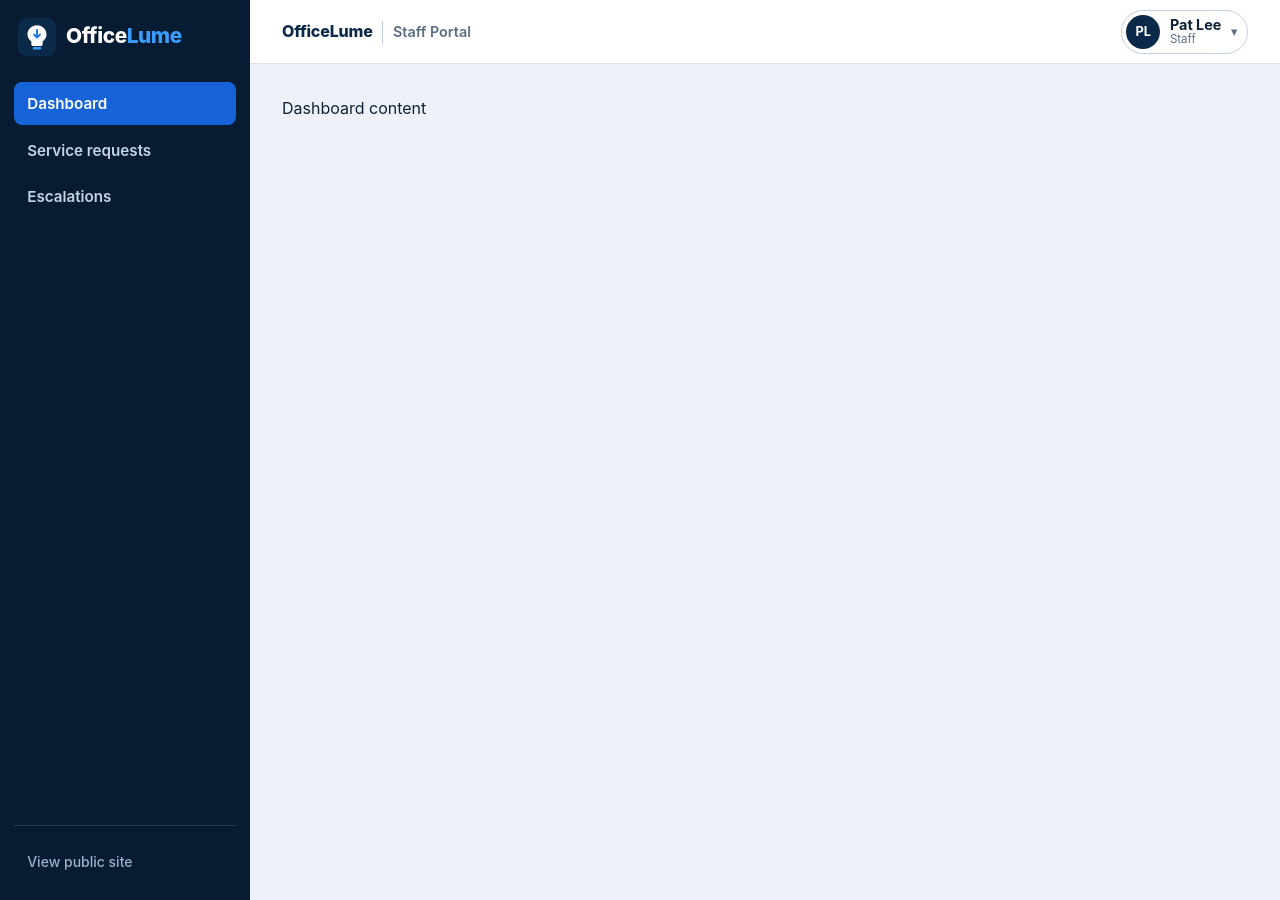
Test: staff portal header and account menu › shows the role label for staff
This screenshot has width=1280, height=900.
Step 1. Click the button "PL Pat Lee Staff ▾" → (1184, 32), box x1=1120 y1=10 x2=1248 y2=54
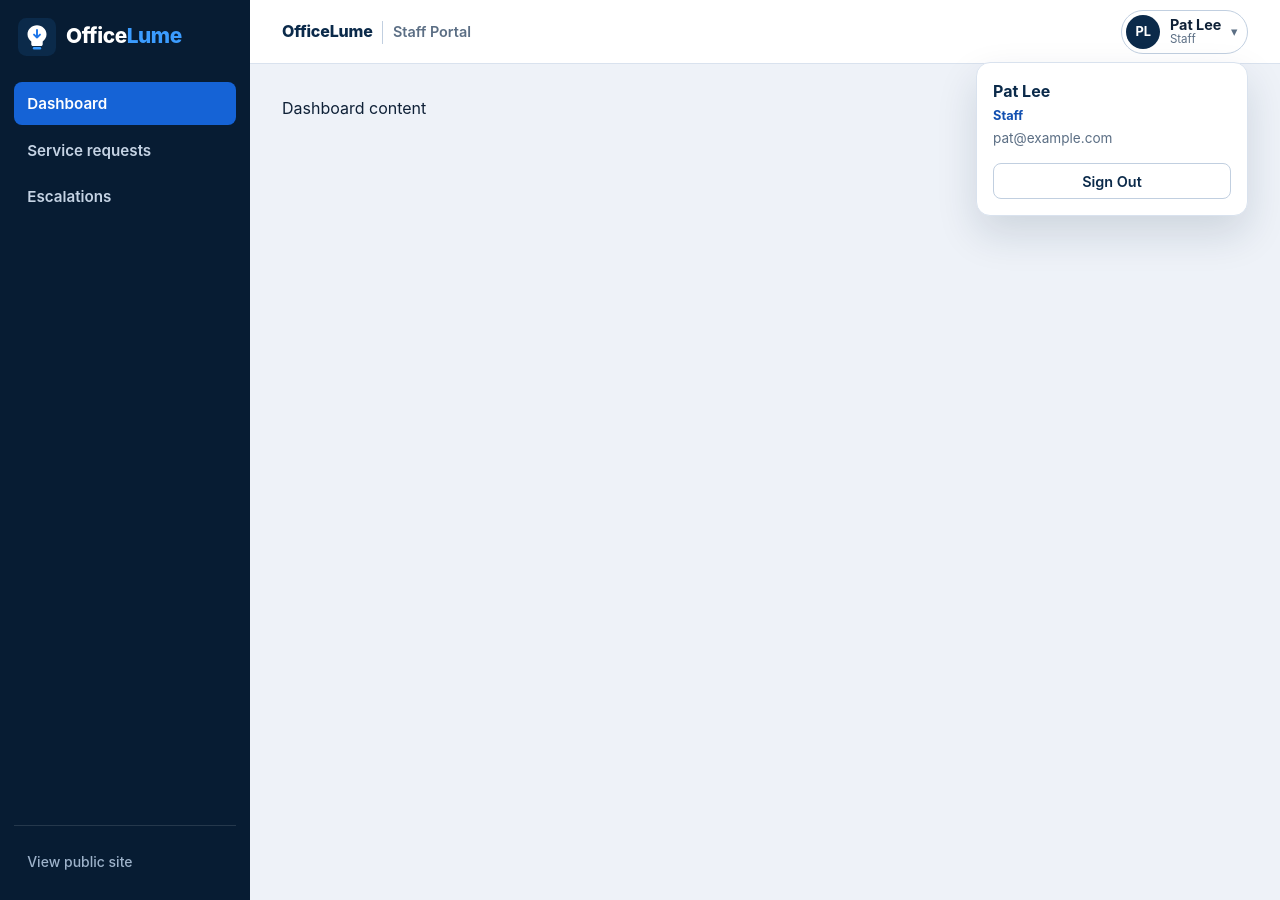
Expected: the 2nd text "Staff" is shown, x1=993 y1=108 x2=1023 y2=123
